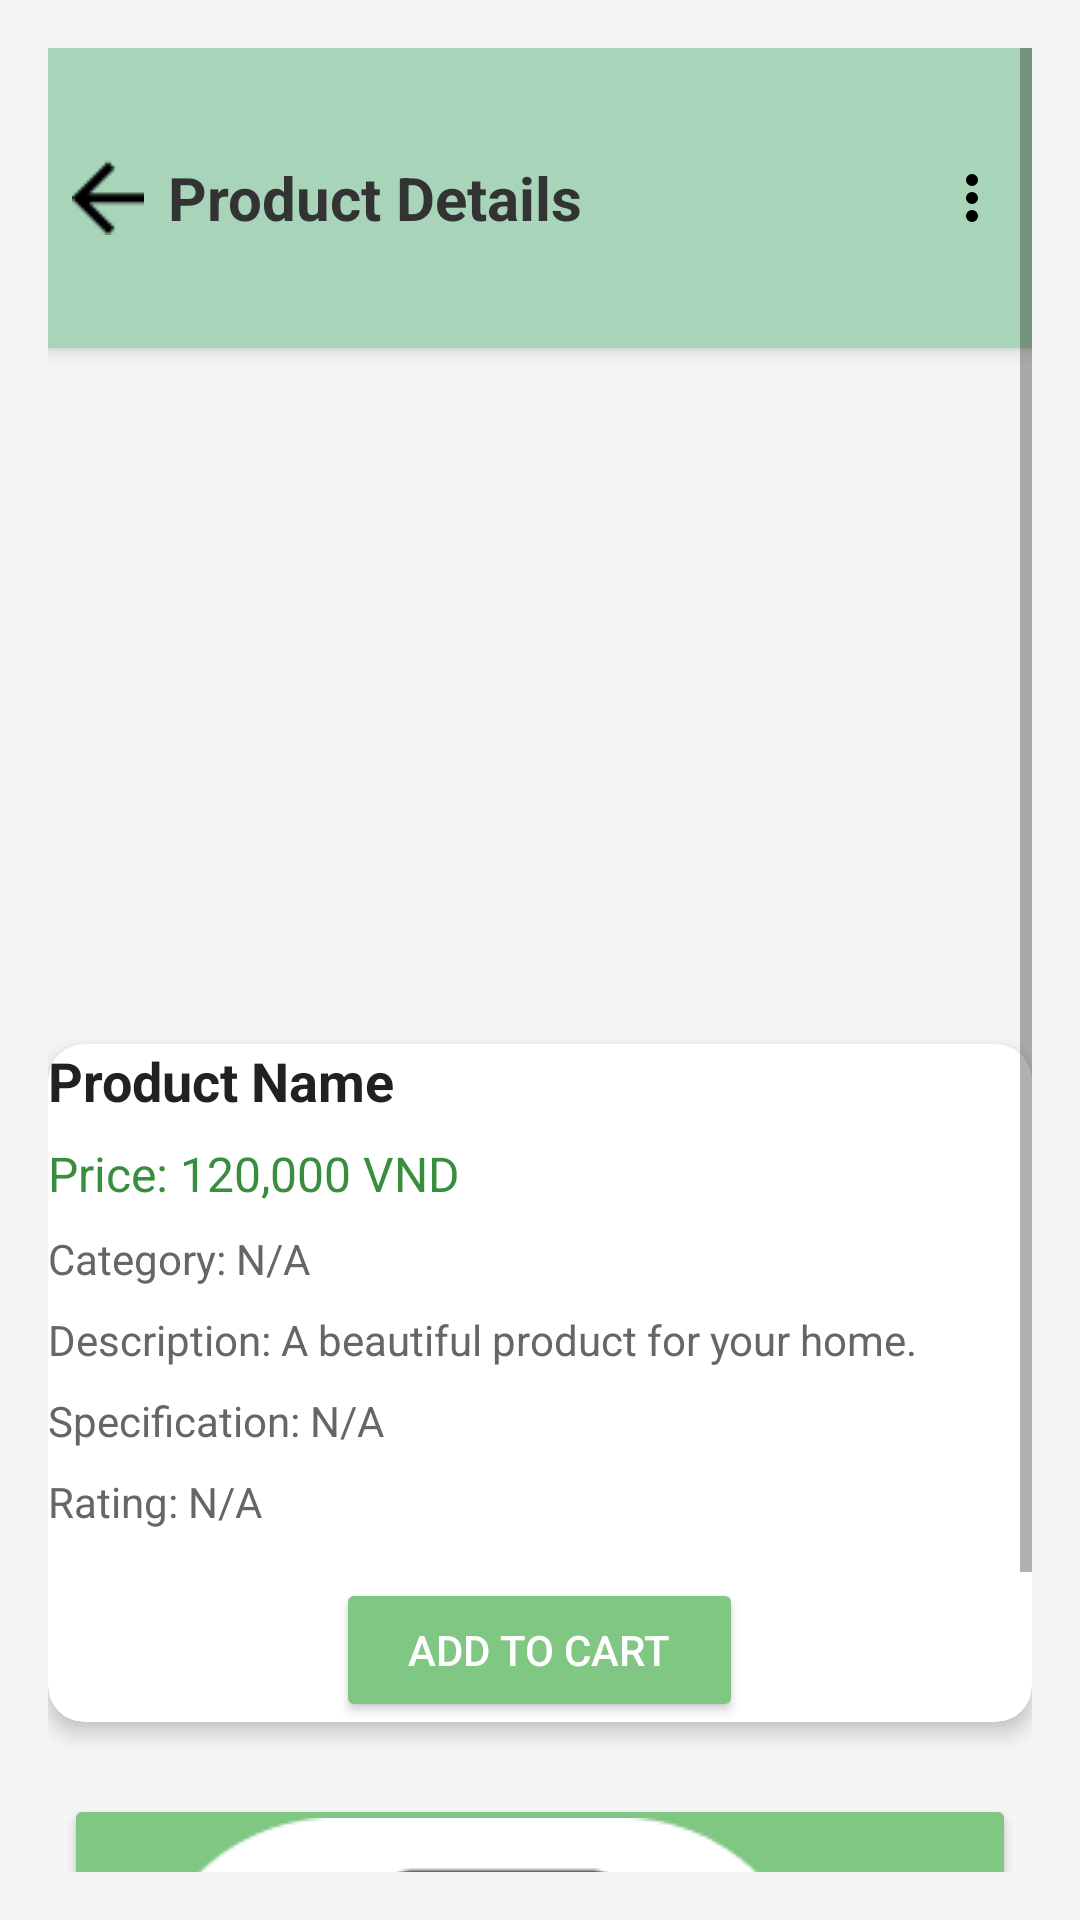

Where to tap for icons on this 1080px x 1920px app screen, as point (x, y):
Back: point (108, 198)
More: point (972, 198)
